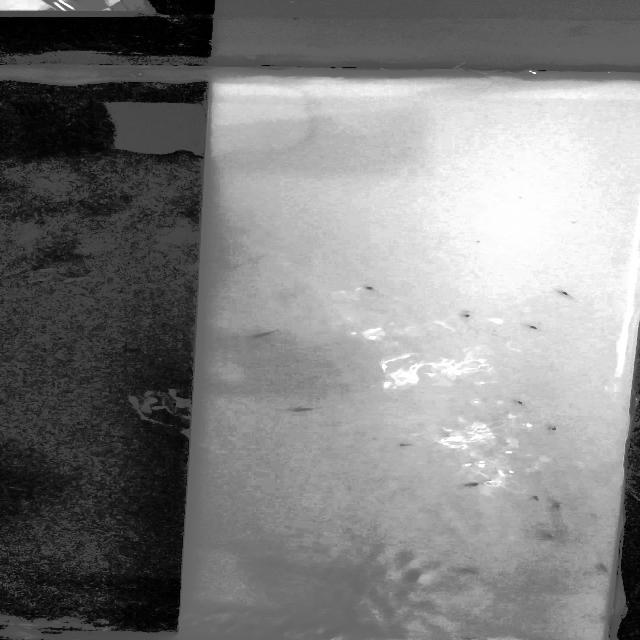shrimp: (458, 474, 496, 494), (244, 324, 287, 340), (283, 399, 320, 417), (449, 306, 485, 324), (534, 524, 570, 542), (353, 280, 388, 298), (511, 394, 538, 416), (538, 420, 568, 439), (548, 288, 579, 304), (524, 492, 550, 507), (525, 322, 552, 336), (548, 502, 574, 512)
